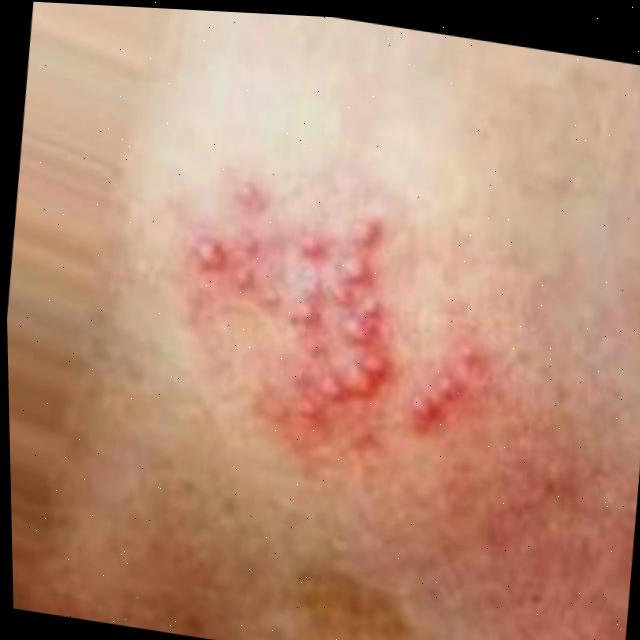Shingles: (169, 164, 500, 478)
